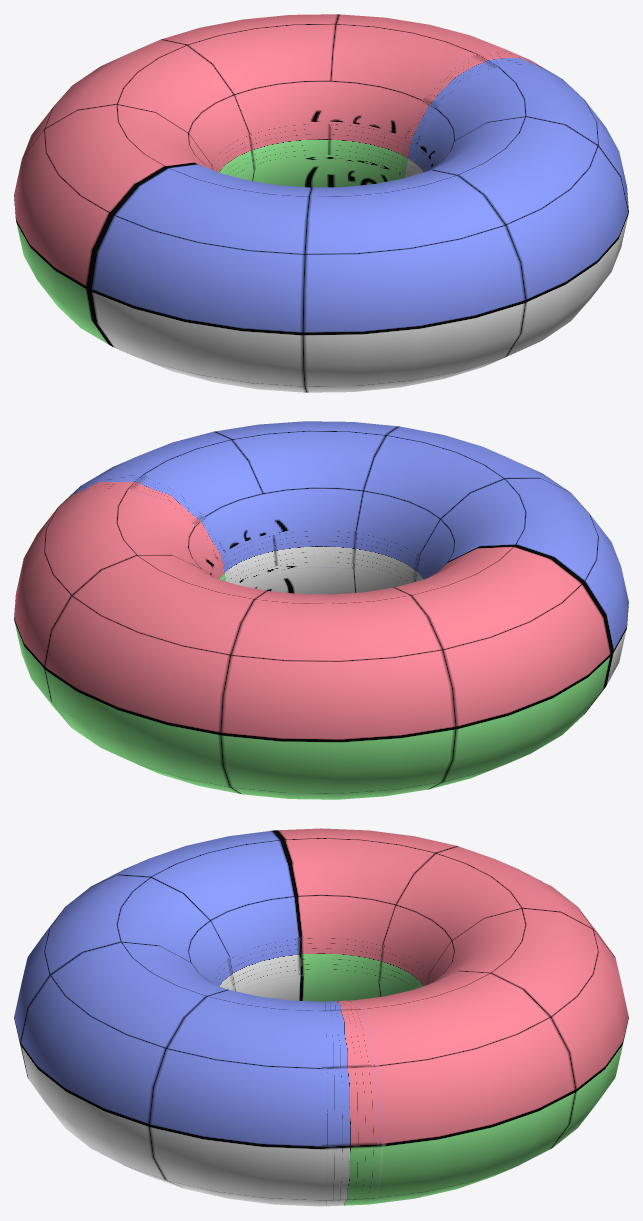
The picture shows the model from 3 angles, top to bottom: view 1: azimuth 30°, elevation 25°; view 2: azimuth 150°, elevation 25°; view 3: azimuth 270°, elevation 25°; orthographic projection.
Bounding box in the file's own units: 2 × 0.6667 × 2.
Materials: 1 (1 with a texture image).
